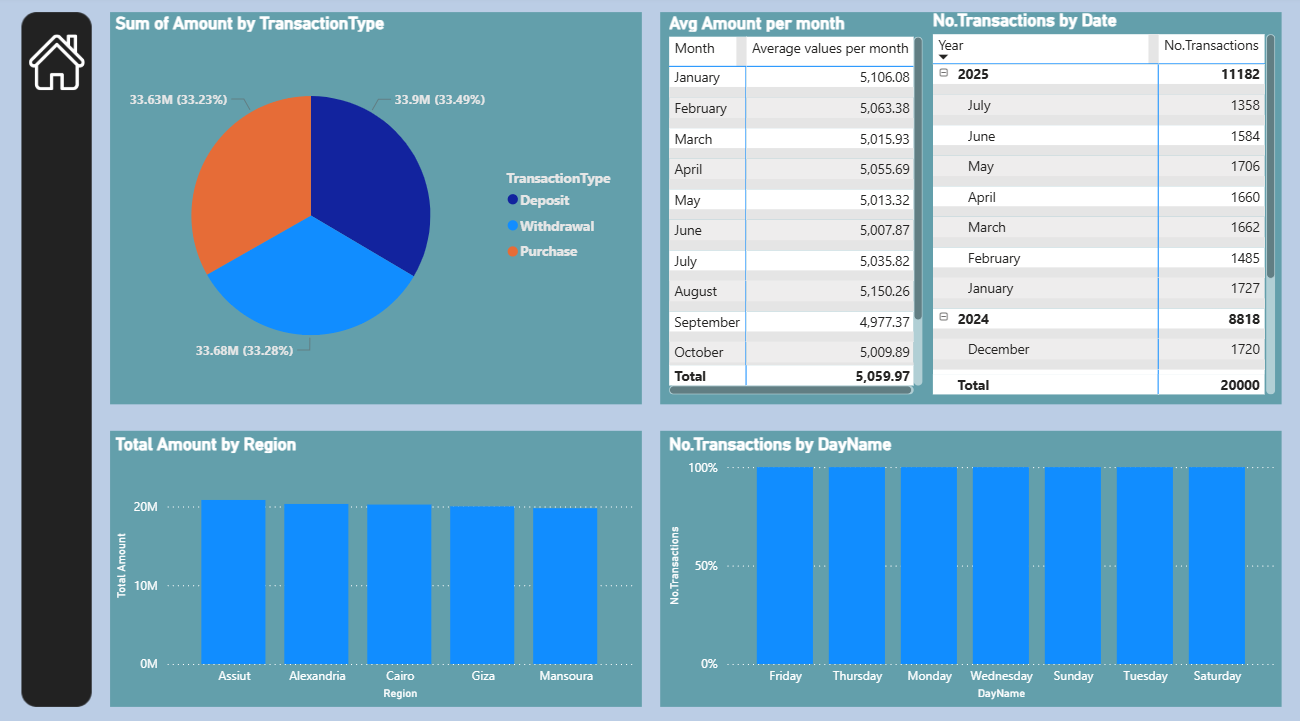

This screenshot's page, from the dashboard's own definition file:
{"tool":"powerbi","page":{"name":"Page 2","canvas":[1280,720],"ordinal":1},"visuals":[{"type":"pivotTable","title":"Avg Amount per month","fields":{"Values":["MyMeasures.Average values per month"],"Rows":["Date.Date.Variation.Date Hierarchy.Month"]},"box":[654,16,258.9,380.4],"z":0},{"type":"hundredPercentStackedColumnChart","fields":{"Y":["MyMeasures.Total No. Transactions"],"Category":["Date.DayName"]},"box":[654,429.5,604.9,266.3],"z":1},{"type":"pivotTable","title":"No.Transactions by Date","fields":{"Rows":["Date.Date.Variation.Date Hierarchy.Year","Date.Date.Variation.Date Hierarchy.Month"],"Values":["MyMeasures.Total No. Transactions"]},"box":[912.9,13.5,346,382.8],"z":2},{"type":"pieChart","fields":{"Y":["Sum(Fact_Financial_Transactions_Cleaned.Amount)"],"Category":["Dim_TransactionType.TransactionType"]},"box":[110.4,16,517.8,380.4],"z":3},{"type":"columnChart","fields":{"Y":["MyMeasures.Total Amount"],"Category":["Dim_Region.Region"]},"box":[110.4,429.5,517.8,266.3],"z":4},{"type":"image","box":[25.8,33.1,63.8,63.8],"z":5}]}

Visuals, with their boxes in screenshot pixels (x1, y1, x2, y2), scaled from the page's 1280x720 canvas onto the 1300x721 screenshot:
"Avg Amount per month" pivotTable: <bbox>664, 16, 927, 397</bbox>
hundredPercentStackedColumnChart - MyMeasures.Total No. Transactions x Date.DayName: <bbox>664, 430, 1279, 697</bbox>
"No.Transactions by Date" pivotTable: <bbox>927, 14, 1279, 397</bbox>
pieChart - Sum(Fact_Financial_Transactions_Cleaned.Amount) x Dim_TransactionType.TransactionType: <bbox>112, 16, 638, 397</bbox>
columnChart - MyMeasures.Total Amount x Dim_Region.Region: <bbox>112, 430, 638, 697</bbox>
image: <bbox>26, 33, 91, 97</bbox>
